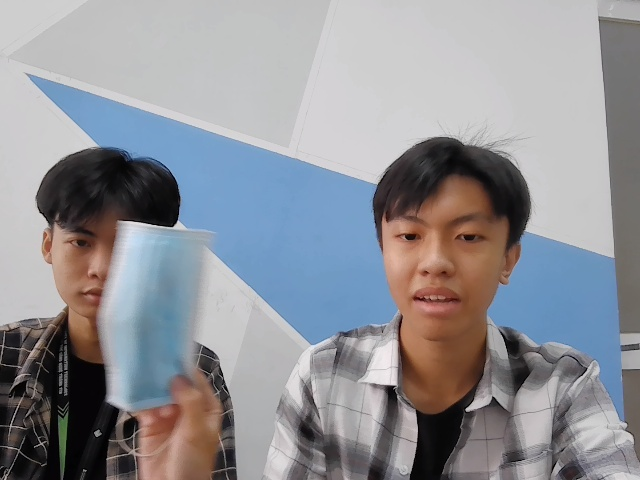human: (376, 143, 526, 330), (36, 148, 191, 318)
mask: (99, 216, 208, 413)
